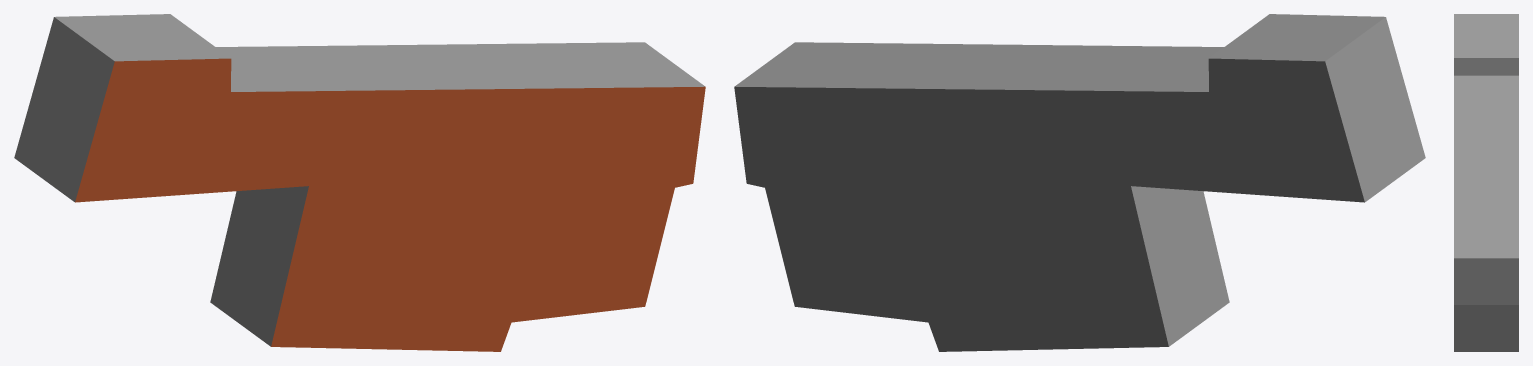
Rendered from construction_0489_assumed_A_Casa_h6m.obj.
3 renders of one model, left to right at view 1: azimuth 30°, elevation 25°; view 2: azimuth 150°, elevation 25°; view 3: azimuth 270°, elevation 25°, orthographic. The views are drawn at different scales.
Visible parts, largest first — view 1: construction_0489_assumed_A_Casa; view 2: construction_0489_assumed_A_Casa; view 3: construction_0489_assumed_A_Casa.
Part boxes in pixels (x1,y1,x2,y2): construction_0489_assumed_A_Casa: (14, 14, 705, 351); construction_0489_assumed_A_Casa: (734, 14, 1425, 351); construction_0489_assumed_A_Casa: (1454, 14, 1518, 351).
Size of the model in its own units: 35.93 by 20.94 by 6.
